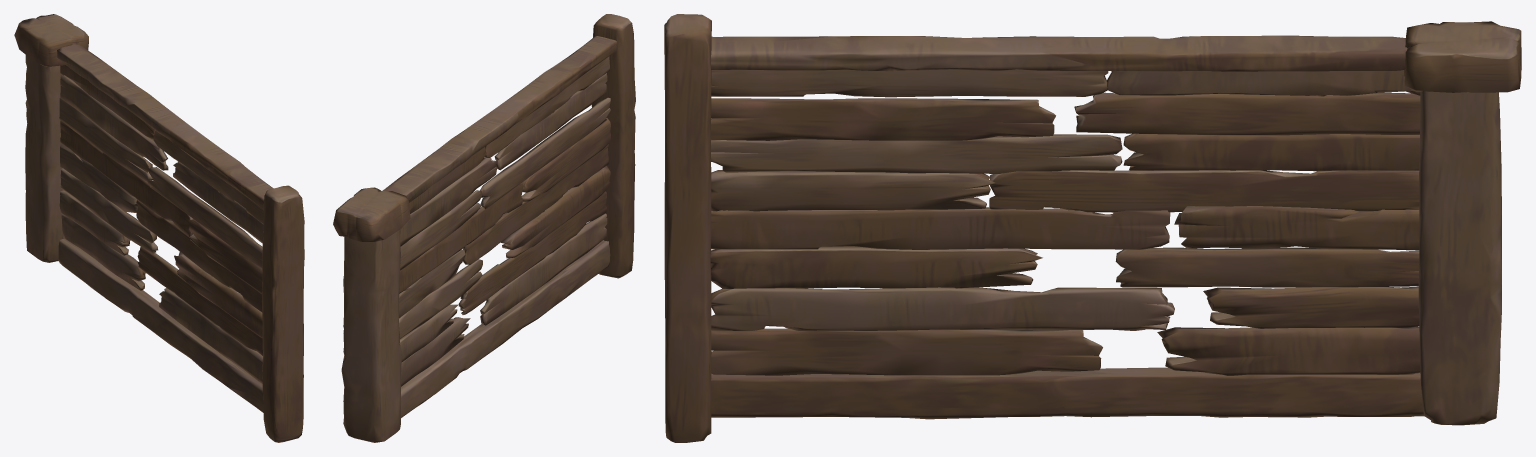
The model's file is muqiang_donghua.fbx.
3 renders of one model, left to right at view 1: azimuth 30°, elevation 25°; view 2: azimuth 150°, elevation 25°; view 3: azimuth 270°, elevation 25°, orthographic. The views are drawn at different scales.
Visible parts, largest first — view 1: sm_Forge_Walls_03_.003, sm_Forge_Walls_03_.004, sm_Forge_Walls_03_.006, sm_Forge_Walls_03_.005, sm_Forge_Walls_03_.011, sm_Forge_Walls_03_.014, sm_Forge_Walls_03_.013, sm_Forge_Walls_03_.022, sm_Forge_Walls_03_.017, sm_Forge_Walls_03_.007, sm_Forge_Walls_03_.002, sm_Forge_Walls_03_.019 (+9 smaller); view 2: sm_Forge_Walls_03_.004, sm_Forge_Walls_03_.003, sm_Forge_Walls_03_.006, sm_Forge_Walls_03_.005, sm_Forge_Walls_03_.022, sm_Forge_Walls_03_.014, sm_Forge_Walls_03_.013, sm_Forge_Walls_03_.007, sm_Forge_Walls_03_.002, sm_Forge_Walls_03_.011, sm_Forge_Walls_03_.019, sm_Forge_Walls_03_.017 (+9 smaller); view 3: sm_Forge_Walls_03_.005, sm_Forge_Walls_03_.004, sm_Forge_Walls_03_.006, sm_Forge_Walls_03_.003, sm_Forge_Walls_03_.013, sm_Forge_Walls_03_.002, sm_Forge_Walls_03_.022, sm_Forge_Walls_03_.011, sm_Forge_Walls_03_.015, sm_Forge_Walls_03_.014, sm_Forge_Walls_03_.017, sm_Forge_Walls_03_.019 (+9 smaller).
Boxes of the visible parts, bbox=[...] form: sm_Forge_Walls_03_.003: bbox=[261, 185, 304, 442]; sm_Forge_Walls_03_.004: bbox=[25, 55, 64, 262]; sm_Forge_Walls_03_.006: bbox=[57, 44, 272, 209]; sm_Forge_Walls_03_.005: bbox=[58, 238, 263, 412]; sm_Forge_Walls_03_.011: bbox=[60, 120, 193, 236]; sm_Forge_Walls_03_.014: bbox=[147, 167, 262, 268]; sm_Forge_Walls_03_.013: bbox=[137, 246, 263, 355]; sm_Forge_Walls_03_.022: bbox=[159, 288, 262, 383]; sm_Forge_Walls_03_.017: bbox=[60, 74, 168, 170]; sm_Forge_Walls_03_.007: bbox=[14, 14, 88, 66]; sm_Forge_Walls_03_.002: bbox=[136, 200, 262, 312]; sm_Forge_Walls_03_.019: bbox=[174, 252, 262, 338]; sm_Forge_Walls_03_.004: bbox=[341, 229, 401, 442]; sm_Forge_Walls_03_.003: bbox=[591, 14, 635, 278]; sm_Forge_Walls_03_.006: bbox=[383, 36, 616, 202]; sm_Forge_Walls_03_.005: bbox=[401, 240, 610, 417]; sm_Forge_Walls_03_.022: bbox=[480, 213, 607, 325]; sm_Forge_Walls_03_.014: bbox=[480, 97, 610, 209]; sm_Forge_Walls_03_.013: bbox=[458, 191, 606, 314]; sm_Forge_Walls_03_.007: bbox=[333, 187, 410, 241]; sm_Forge_Walls_03_.002: bbox=[462, 144, 608, 264]; sm_Forge_Walls_03_.011: bbox=[399, 183, 523, 293]; sm_Forge_Walls_03_.019: bbox=[500, 165, 610, 258]; sm_Forge_Walls_03_.017: bbox=[400, 157, 497, 246]; sm_Forge_Walls_03_.005: bbox=[711, 367, 1423, 419]; sm_Forge_Walls_03_.004: bbox=[1418, 91, 1501, 425]; sm_Forge_Walls_03_.006: bbox=[711, 35, 1407, 71]; sm_Forge_Walls_03_.003: bbox=[664, 14, 711, 442]; sm_Forge_Walls_03_.013: bbox=[711, 287, 1174, 330]; sm_Forge_Walls_03_.002: bbox=[711, 207, 1170, 249]; sm_Forge_Walls_03_.022: bbox=[711, 328, 1102, 375]; sm_Forge_Walls_03_.011: bbox=[989, 170, 1419, 212]; sm_Forge_Walls_03_.015: bbox=[711, 98, 1055, 140]; sm_Forge_Walls_03_.014: bbox=[711, 134, 1122, 173]; sm_Forge_Walls_03_.017: bbox=[1074, 92, 1420, 135]; sm_Forge_Walls_03_.019: bbox=[710, 246, 1042, 288].
Size of the model in its own units: 103 by 529 by 1003.
